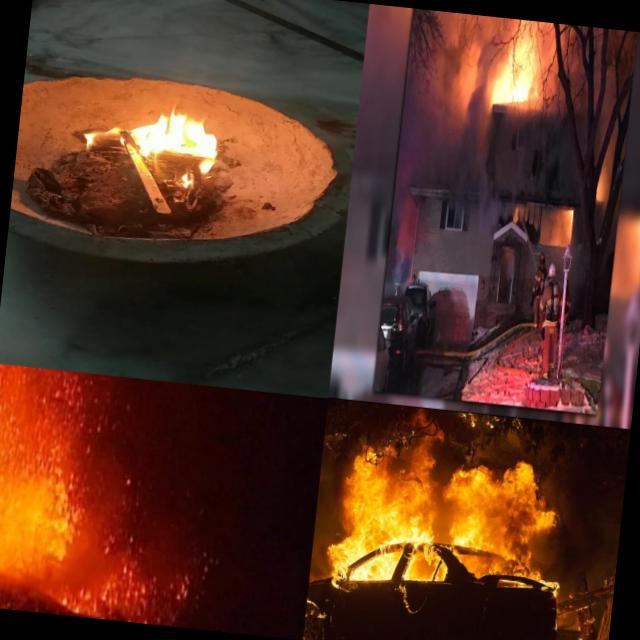fire: (320, 432, 572, 608), (0, 362, 181, 587), (77, 71, 248, 191), (489, 55, 541, 116), (525, 624, 601, 640), (594, 160, 606, 203), (564, 198, 576, 240)
smoke: (392, 76, 492, 205), (474, 186, 516, 244)
